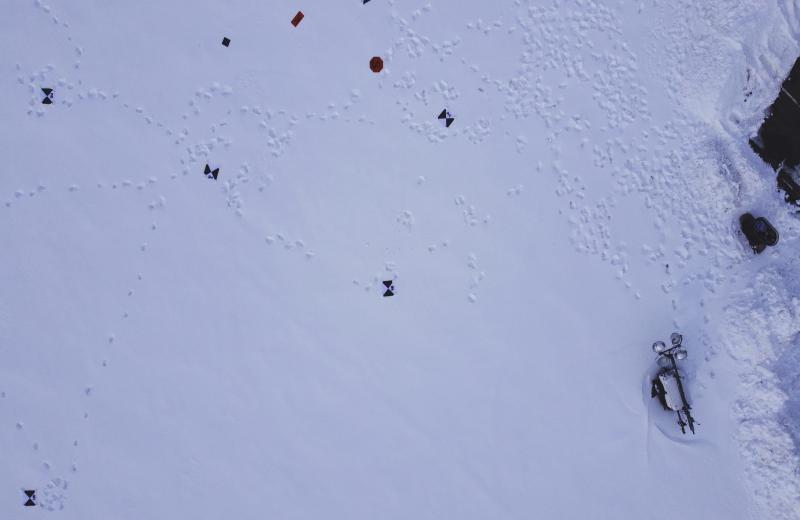Octagon: (369, 56, 384, 73)
Rectangle: (290, 10, 304, 28)
Square: (221, 36, 232, 48)
